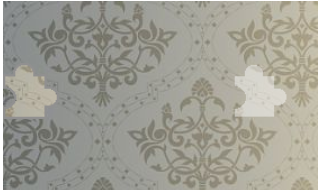target: (233, 65, 287, 117)
